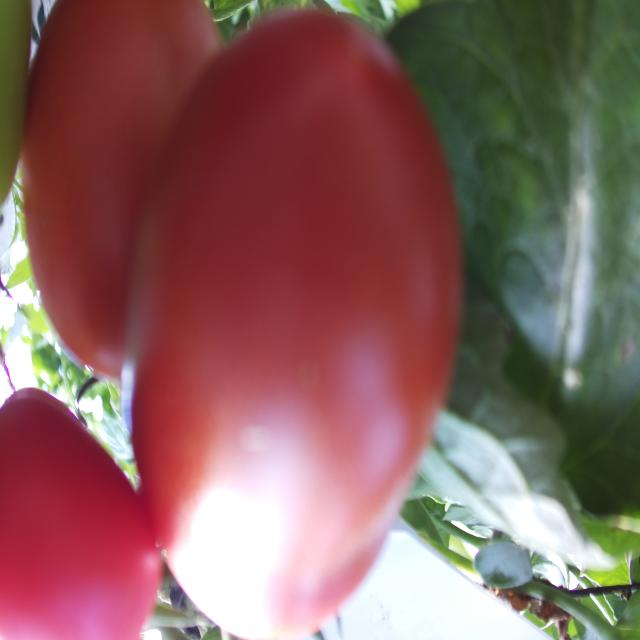kirmizi: (124, 10, 473, 640)
